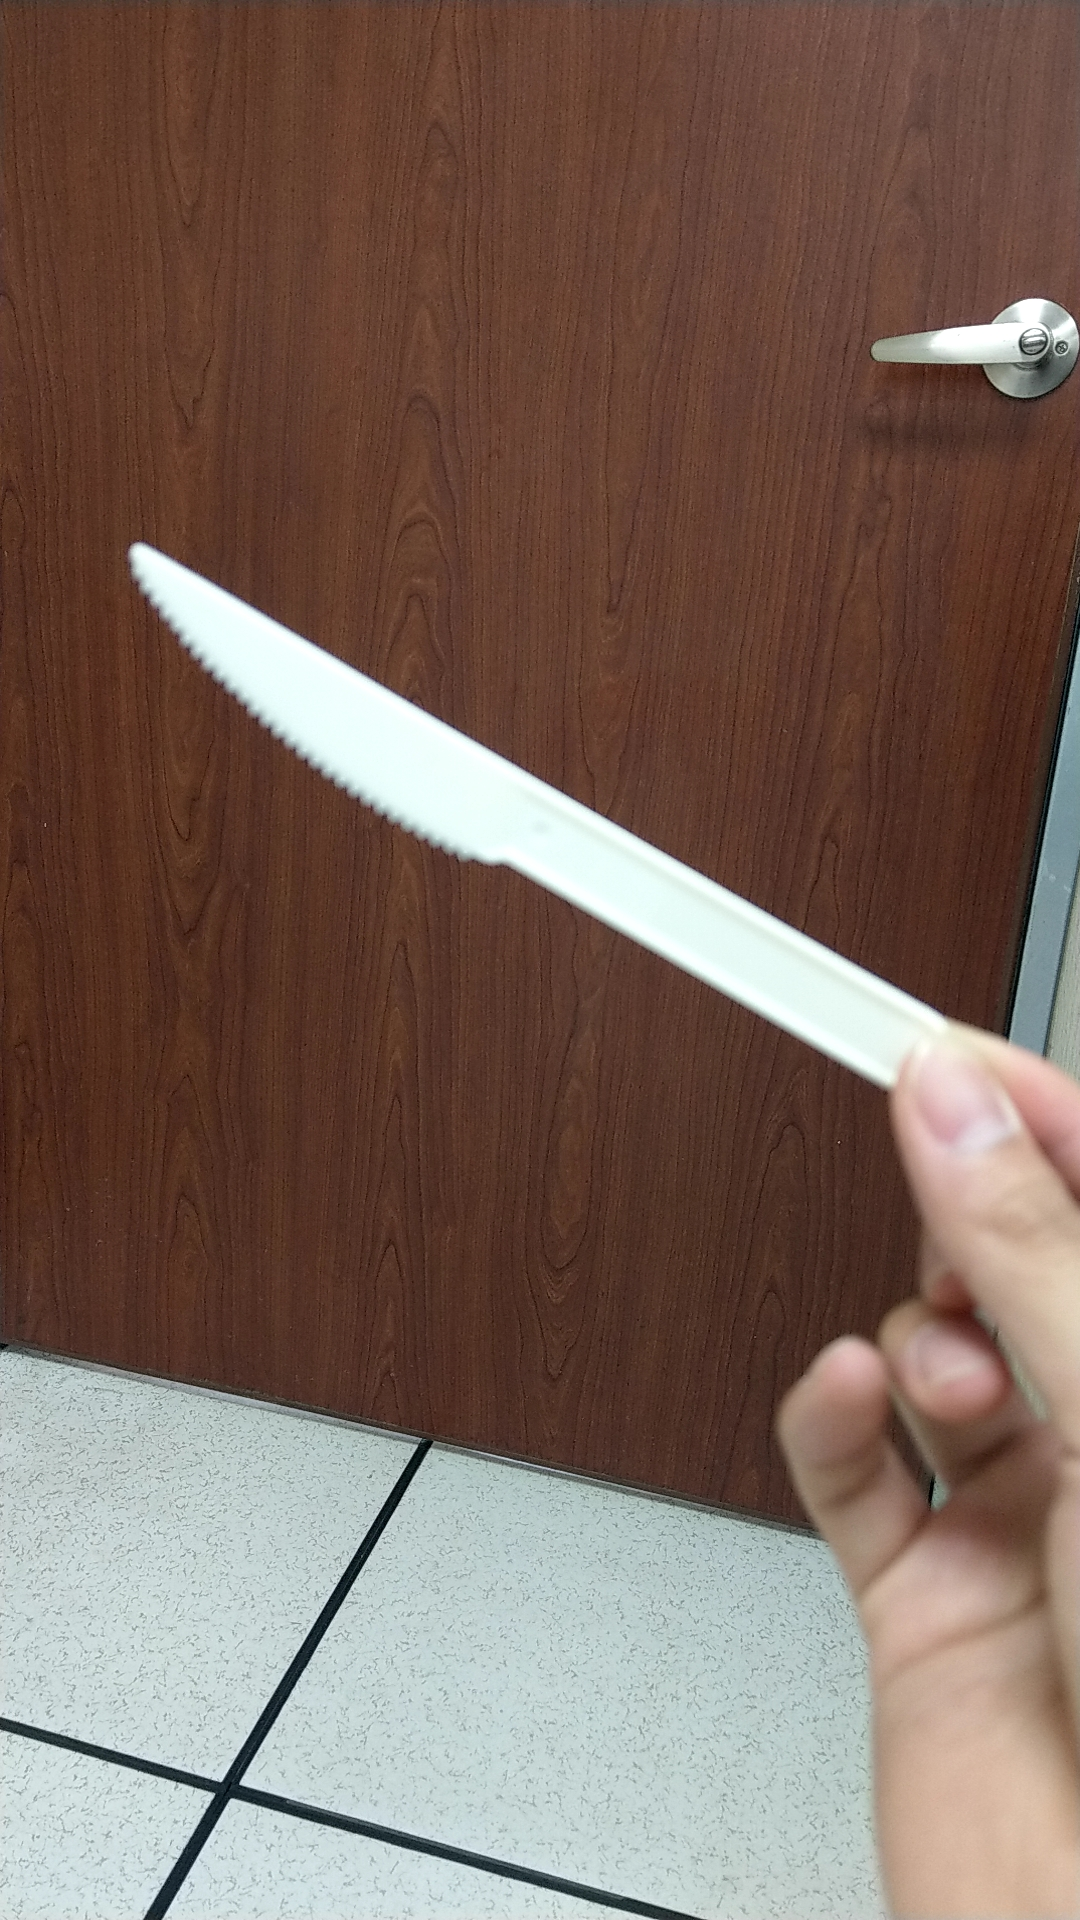knife: (98, 514, 915, 1079)
